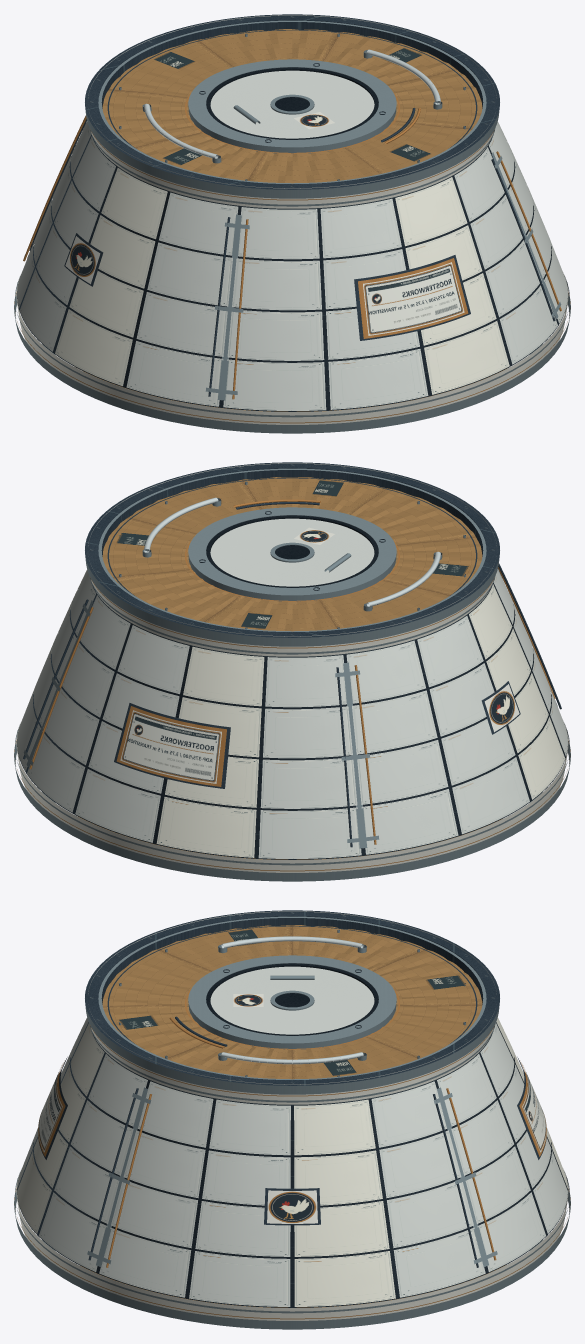
File: RW_ADP_375_500.obj
The picture shows the model from 3 angles, top to bottom: view 1: azimuth 30°, elevation 25°; view 2: azimuth 150°, elevation 25°; view 3: azimuth 270°, elevation 25°; orthographic projection.
Parts seen in each view (by area): view 1: RW_Adapter_cladding, RW_Adapter_hubblanket, RW_Adapter_graphite, RW_Adapter_cladding_white, RW_Adapter_steel, RW_Adapter_white, RW_Adapter_ceramic, RW_Adapter_adplabel, RW_Adapter_bronze, RW_Adapter_black, RW_Adapter_detail, RW_Adapter_crest (+1 smaller); view 2: RW_Adapter_cladding, RW_Adapter_hubblanket, RW_Adapter_graphite, RW_Adapter_steel, RW_Adapter_cladding_white, RW_Adapter_white, RW_Adapter_ceramic, RW_Adapter_adplabel, RW_Adapter_bronze, RW_Adapter_black, RW_Adapter_detail, RW_Adapter_crest (+1 smaller); view 3: RW_Adapter_cladding, RW_Adapter_hubblanket, RW_Adapter_graphite, RW_Adapter_steel, RW_Adapter_cladding_white, RW_Adapter_white, RW_Adapter_ceramic, RW_Adapter_bronze, RW_Adapter_crest, RW_Adapter_adplabel, RW_Adapter_black, RW_Adapter_rail (+1 smaller).
Part boxes in pixels (<box>): RW_Adapter_cladding: <box>17,121,567,410</box>; RW_Adapter_hubblanket: <box>77,29,507,411</box>; RW_Adapter_graphite: <box>17,14,567,411</box>; RW_Adapter_cladding_white: <box>55,168,509,394</box>; RW_Adapter_steel: <box>14,16,570,433</box>; RW_Adapter_white: <box>16,15,568,424</box>; RW_Adapter_ceramic: <box>210,70,374,138</box>; RW_Adapter_adplabel: <box>363,262,464,335</box>; RW_Adapter_bronze: <box>14,92,570,423</box>; RW_Adapter_black: <box>206,67,378,139</box>; RW_Adapter_detail: <box>153,48,431,165</box>; RW_Adapter_crest: <box>65,112,334,284</box>; RW_Adapter_cladding: <box>17,569,567,858</box>; RW_Adapter_hubblanket: <box>78,477,501,859</box>; RW_Adapter_graphite: <box>17,462,567,859</box>; RW_Adapter_steel: <box>14,464,570,881</box>; RW_Adapter_cladding_white: <box>22,569,565,857</box>; RW_Adapter_white: <box>16,463,568,872</box>; RW_Adapter_ceramic: <box>210,518,374,586</box>; RW_Adapter_adplabel: <box>120,710,221,783</box>; RW_Adapter_bronze: <box>14,499,570,871</box>; RW_Adapter_black: <box>206,515,378,587</box>; RW_Adapter_detail: <box>116,480,468,629</box>; RW_Adapter_crest: <box>294,527,519,732</box>; RW_Adapter_cladding: <box>17,1017,567,1306</box>; RW_Adapter_hubblanket: <box>81,925,505,1307</box>; RW_Adapter_graphite: <box>17,910,567,1307</box>; RW_Adapter_steel: <box>14,912,570,1329</box>; RW_Adapter_cladding_white: <box>17,1017,567,1306</box>; RW_Adapter_white: <box>16,911,568,1320</box>; RW_Adapter_ceramic: <box>210,966,374,1034</box>; RW_Adapter_bronze: <box>14,988,570,1319</box>; RW_Adapter_crest: <box>233,994,317,1223</box>; RW_Adapter_adplabel: <box>38,1065,546,1152</box>; RW_Adapter_black: <box>206,963,378,1035</box>; RW_Adapter_rail: <box>221,936,363,1064</box>.
Bounding box in the file's own units: 4.93 × 2.1 × 4.93.
13 materials, 13 textured.
